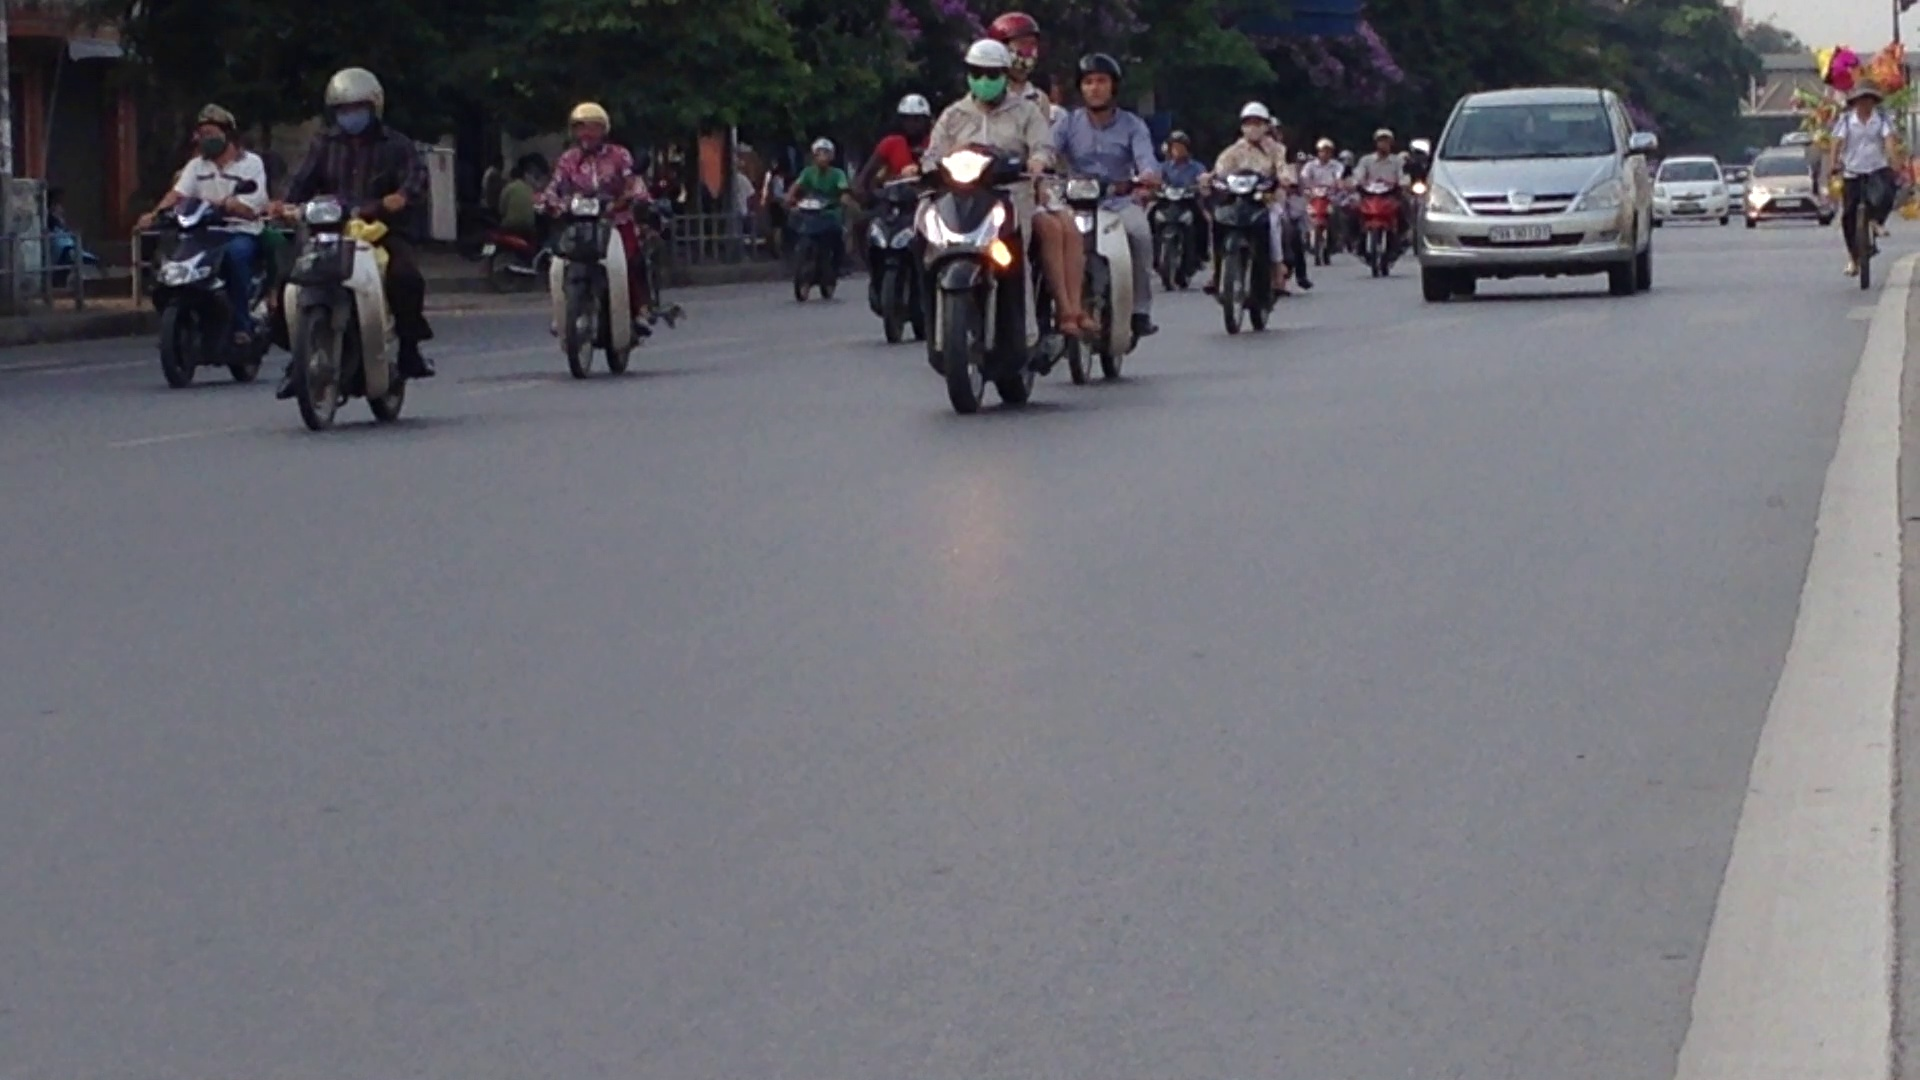vehicle-plate: (1485, 219, 1557, 247)
